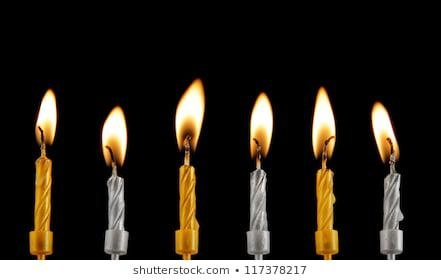fire: (174, 75, 207, 166), (309, 85, 336, 166), (247, 90, 274, 170), (100, 101, 130, 172), (371, 99, 400, 165), (33, 86, 58, 151)
